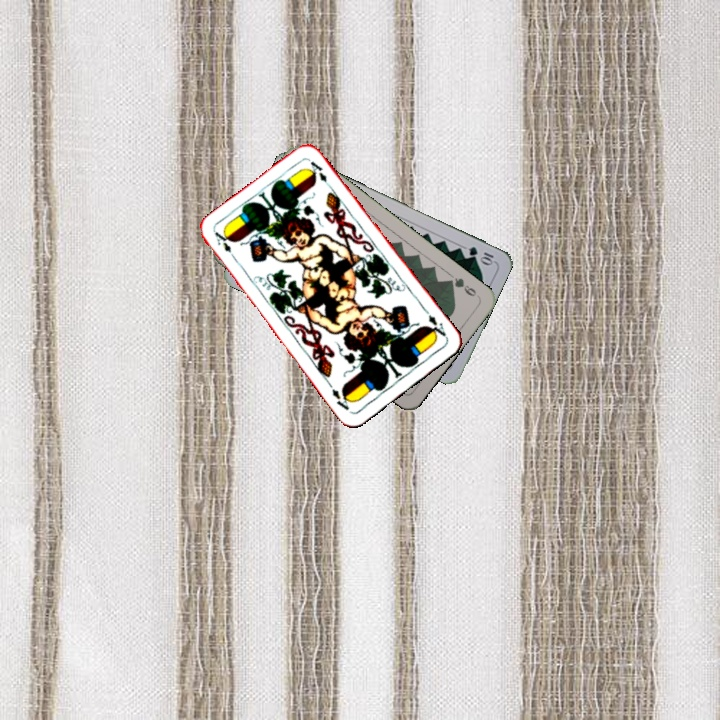EA: (420, 305, 449, 341), (211, 227, 234, 255)
G10: (465, 242, 497, 267)
G9: (443, 274, 482, 300)
